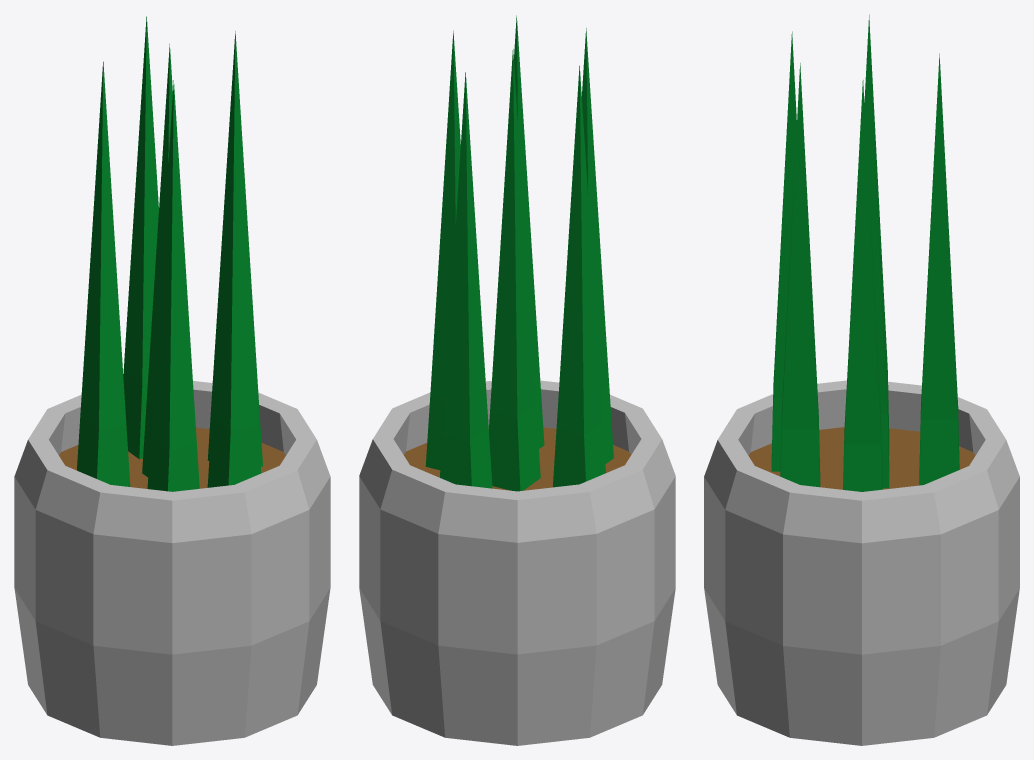
Rendered from Tree Pot_5.fbx.
3 renders of one model, left to right at view 1: azimuth 30°, elevation 25°; view 2: azimuth 150°, elevation 25°; view 3: azimuth 270°, elevation 25°, orthographic.
Visible parts, largest first — view 1: Tree Pot_5; view 2: Tree Pot_5; view 3: Tree Pot_5.
Boxes of the visible parts, x1,y1,x2,y2 form: Tree Pot_5: (14,16,330,745); Tree Pot_5: (359,15,675,745); Tree Pot_5: (704,14,1019,745).
Bounding box in the file's own units: 0.1374 × 0.3067 × 0.1374.
